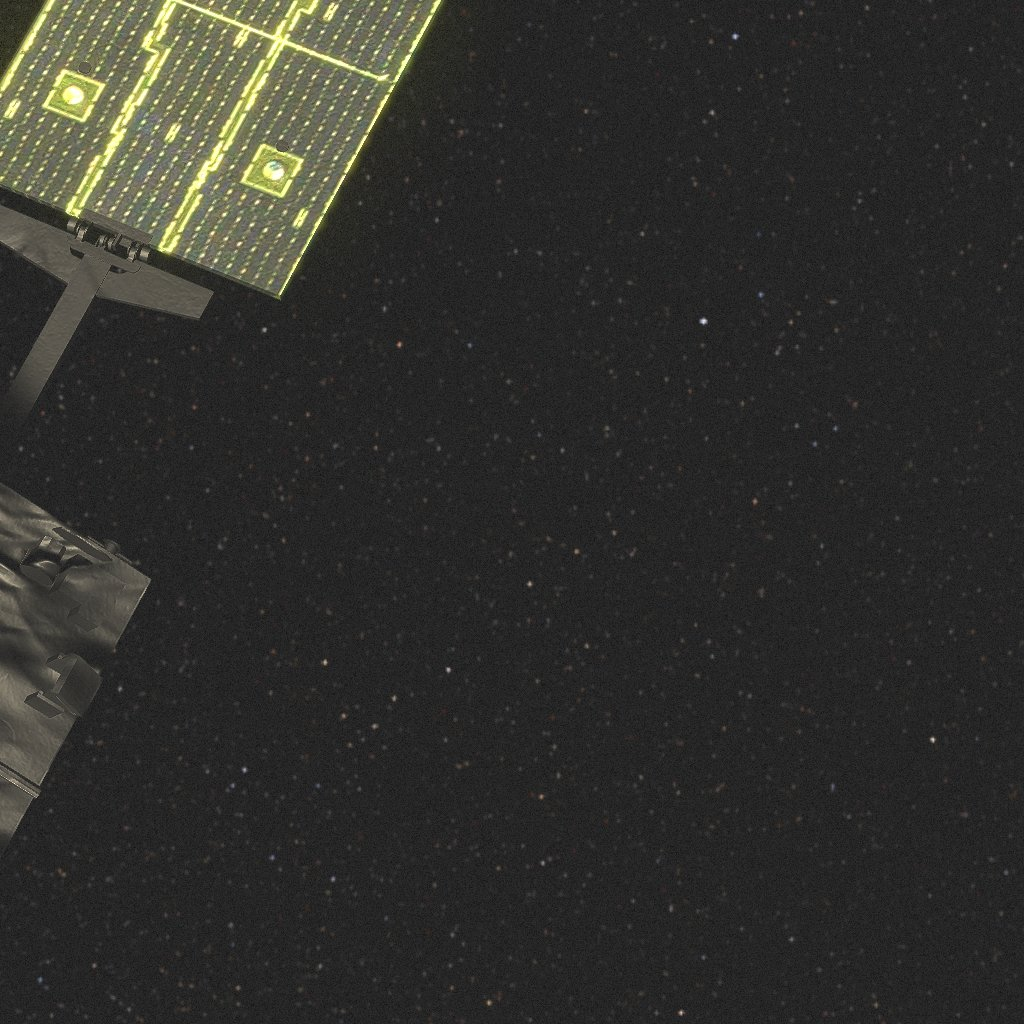smart_1: (0, 0, 444, 858)
